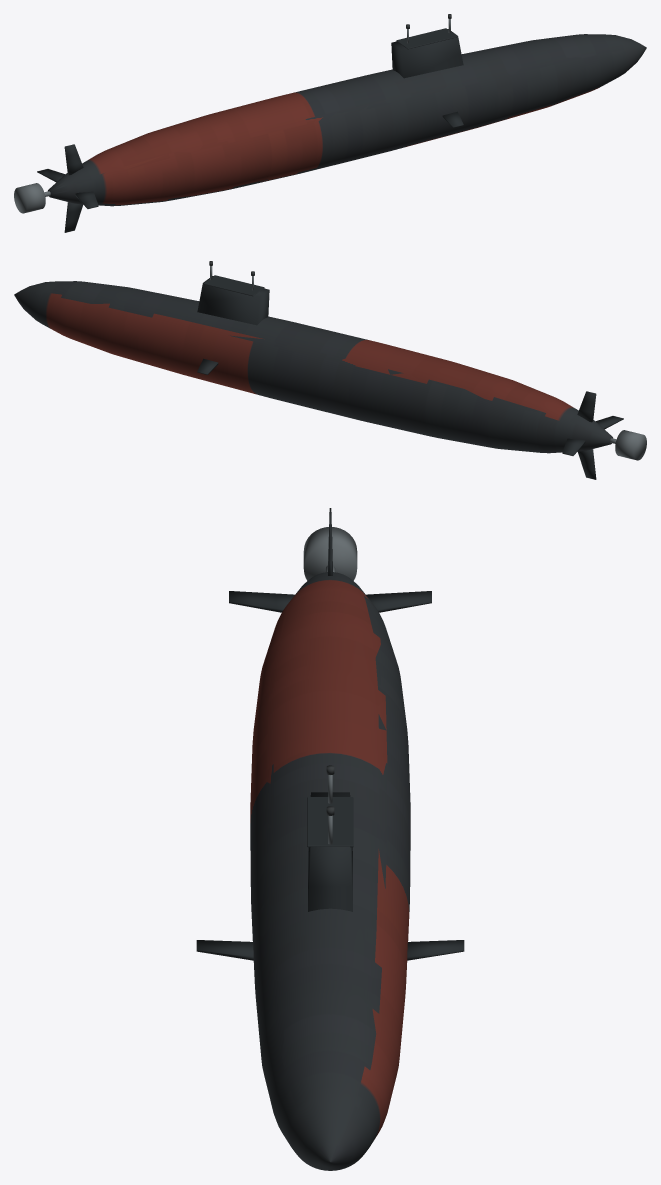
Rendered from UK_SSN_Astute_LOD1.fbx.
3 views of the same model, one above another, from view 1: azimuth 30°, elevation 25°; view 2: azimuth 150°, elevation 25°; view 3: azimuth 270°, elevation 25° (orthographic). The views are drawn at different scales.
Visible parts, largest first — view 1: UK_SSN_Astute_LOD1; view 2: UK_SSN_Astute_LOD1; view 3: UK_SSN_Astute_LOD1.
Part boxes in pixels (bbox=[...]): UK_SSN_Astute_LOD1: bbox=[14, 14, 646, 232]; UK_SSN_Astute_LOD1: bbox=[14, 261, 646, 479]; UK_SSN_Astute_LOD1: bbox=[196, 508, 464, 1170].
Size of the model in its own units: 102 by 18.82 by 19.24.
6 materials, 1 textured.
